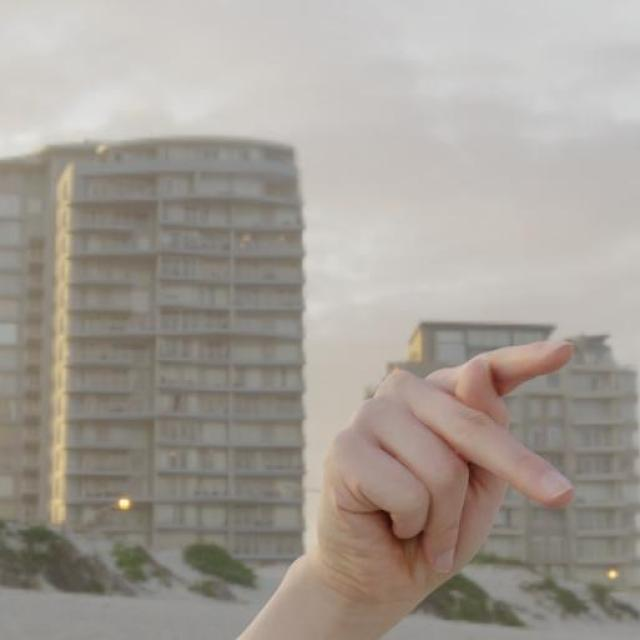P: (308, 337, 580, 608)
